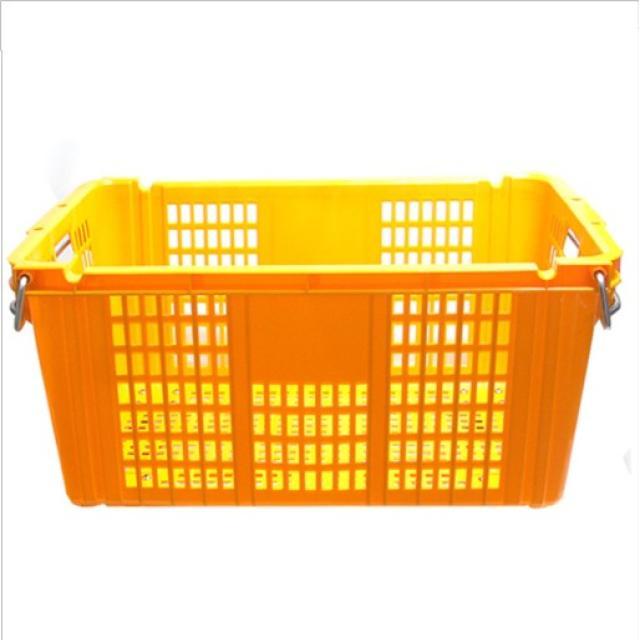basket: (10, 176, 623, 507)
